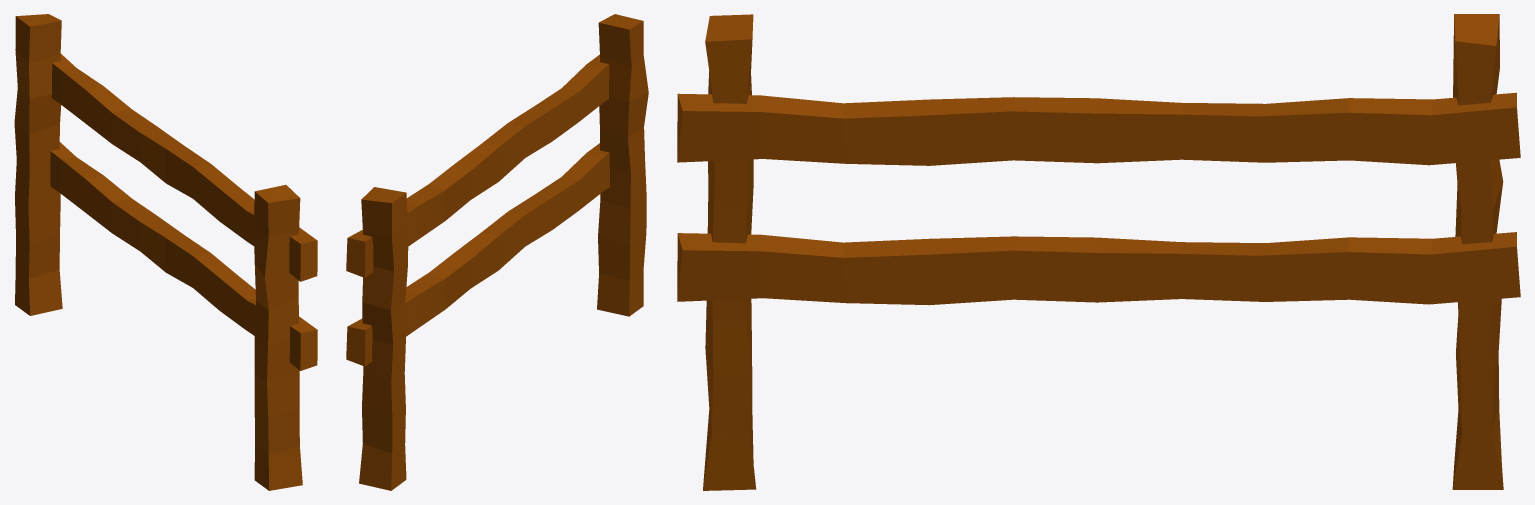
Rendered from Fence.fbx.
3 renders of one model, left to right at view 1: azimuth 30°, elevation 25°; view 2: azimuth 150°, elevation 25°; view 3: azimuth 270°, elevation 25°, orthographic. The views are drawn at different scales.
Parts seen in each view (by area): view 1: Cube, Cube.002; view 2: Cube, Cube.002; view 3: Cube.002, Cube.
Part boxes in pixels (<box>): Cube: <box>14,14,302,490</box>; Cube.002: <box>50,53,317,370</box>; Cube: <box>359,14,648,490</box>; Cube.002: <box>346,54,609,366</box>; Cube.002: <box>677,92,1520,305</box>; Cube: <box>703,14,1503,490</box>.
Size of the model in its own units: 45.74 by 281 by 474.
